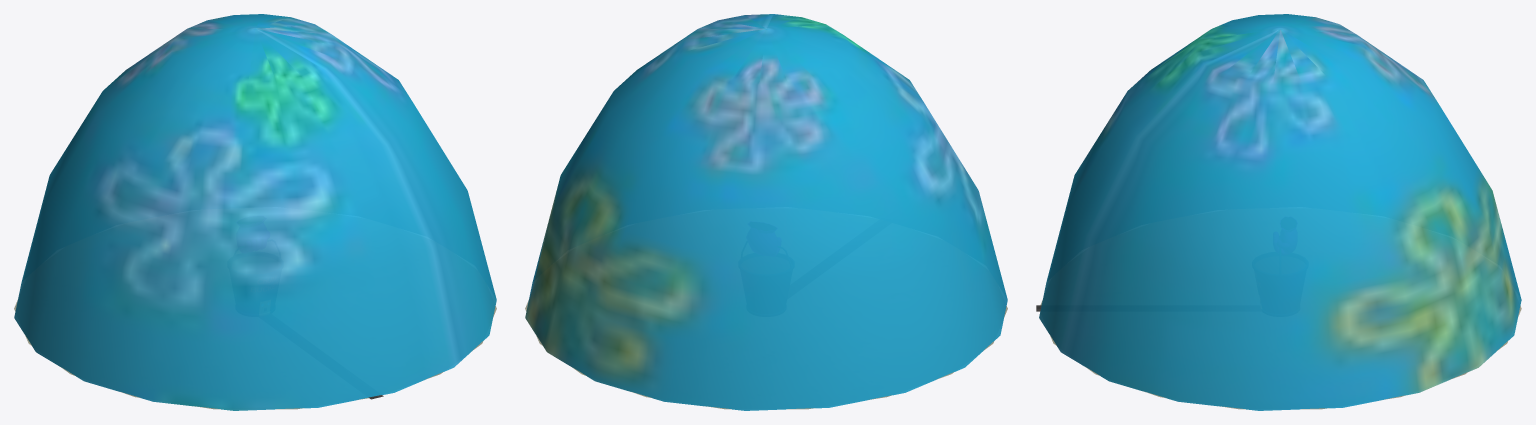
The model's file is chum-bucket.glb.
3 views of the same model, side by side, from view 1: azimuth 30°, elevation 25°; view 2: azimuth 150°, elevation 25°; view 3: azimuth 270°, elevation 25° (orthographic).
Parts seen in each view (by area): view 1: Skybox; view 2: Skybox; view 3: Skybox.
Boxes of the visible parts, x1,y1,x2,y2 form: Skybox: (14, 14, 496, 410); Skybox: (525, 14, 1007, 410); Skybox: (1039, 14, 1521, 410).
Bounding box in the file's own units: 2243 × 1436 × 2257.
11 materials, 7 textured.
